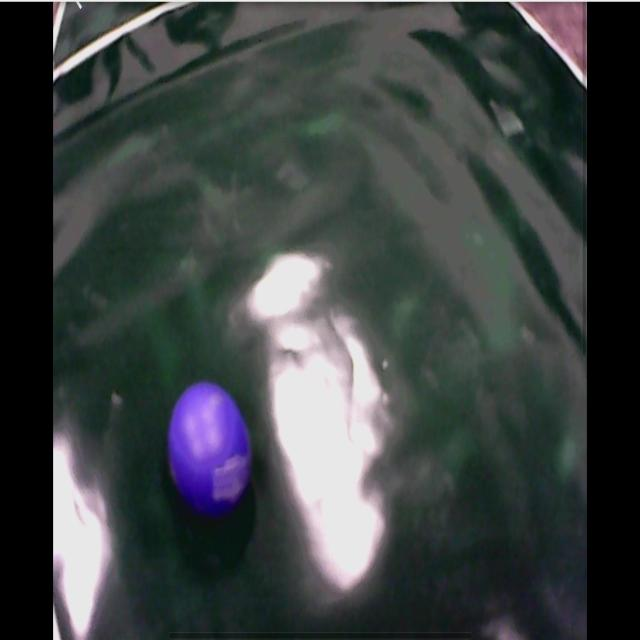ball: (173, 383, 249, 513)
